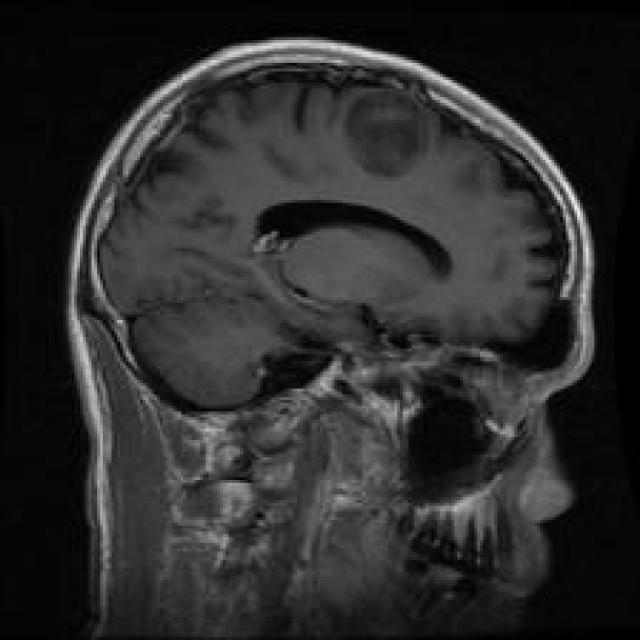glioma_tumor: (338, 74, 444, 187)
